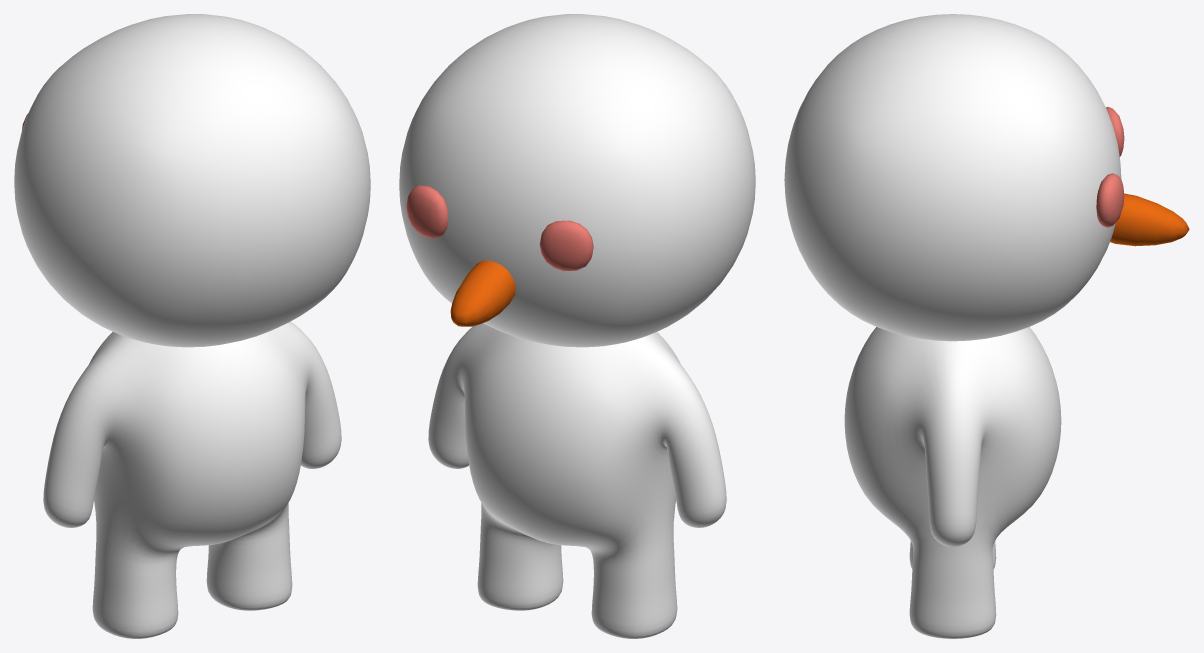
The model's file is char3.fbx.
The picture shows the model from 3 angles, left to right: view 1: azimuth 30°, elevation 25°; view 2: azimuth 150°, elevation 25°; view 3: azimuth 270°, elevation 25°; orthographic projection. The views are drawn at different scales.
Parts seen in each view (by area): view 1: new head.005; view 2: new head.005; view 3: new head.005.
Part boxes in pixels (x1,y1,x2,y2): new head.005: (14, 14, 370, 638); new head.005: (399, 14, 755, 638); new head.005: (784, 14, 1189, 638).
Size of the model in its own units: 170 by 307 by 199.
